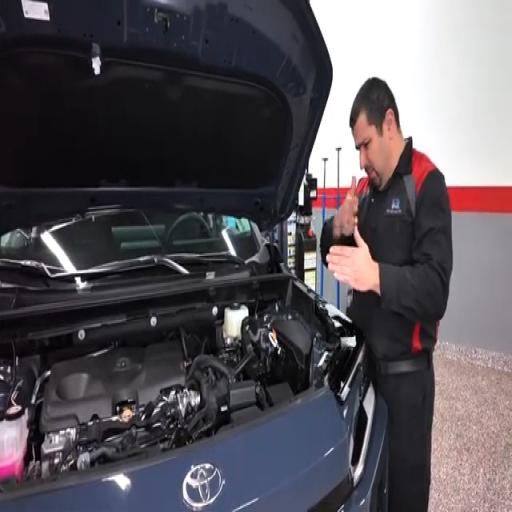bumper: (0, 390, 387, 511)
emblem: (183, 464, 224, 510)
hood: (0, 0, 331, 231)
windshield: (0, 210, 259, 271)
